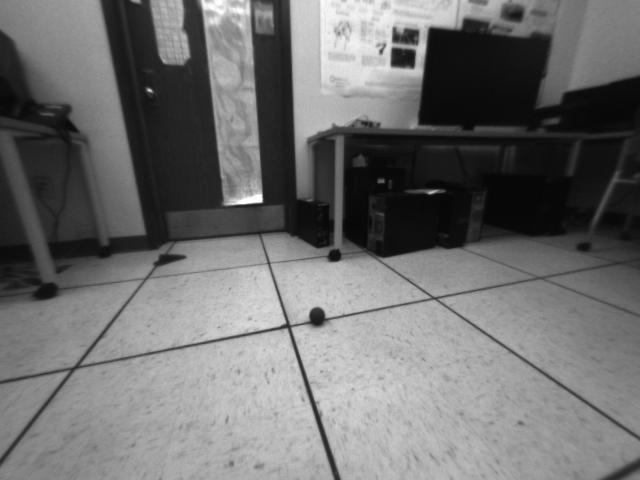dogtoy: (302, 300, 332, 330)
